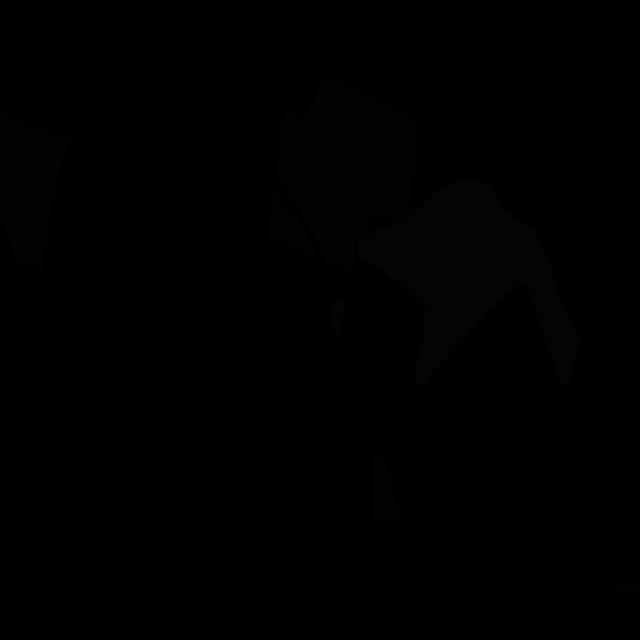cardboard: (275, 74, 418, 273), (0, 109, 70, 271), (267, 185, 321, 262), (372, 454, 400, 523), (614, 570, 640, 597)
soft_plastic: (358, 177, 581, 390), (330, 298, 348, 338)
